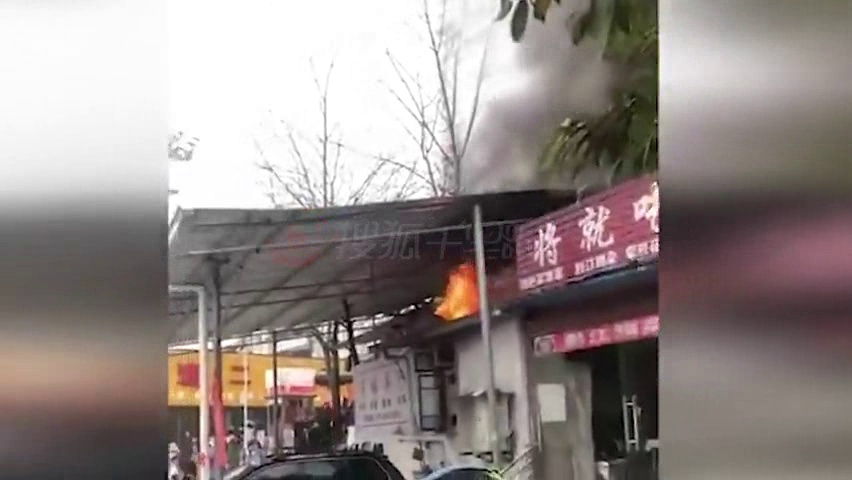fire: (430, 259, 487, 324)
